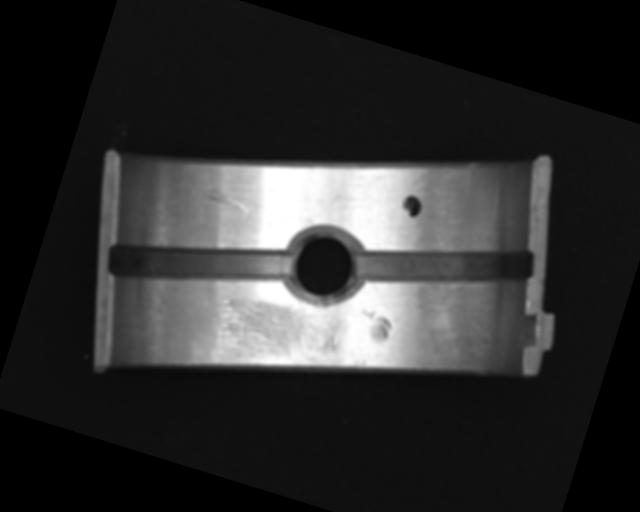blot: (398, 192, 425, 219)
bruise: (352, 306, 396, 346), (349, 355, 368, 373)
gap: (353, 202, 537, 327), (106, 204, 294, 324)
hole: (274, 215, 373, 316)
nick: (200, 184, 262, 218)
scratch: (205, 279, 355, 389)
